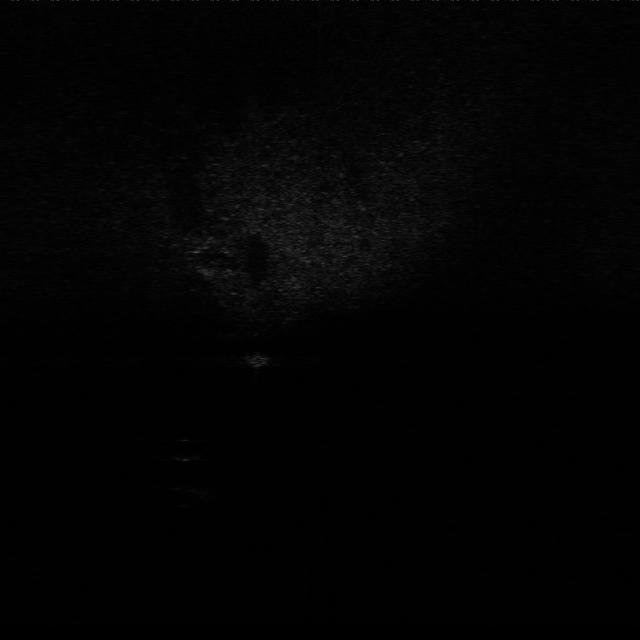ball: (170, 436, 204, 464)
cube: (242, 345, 277, 369)
